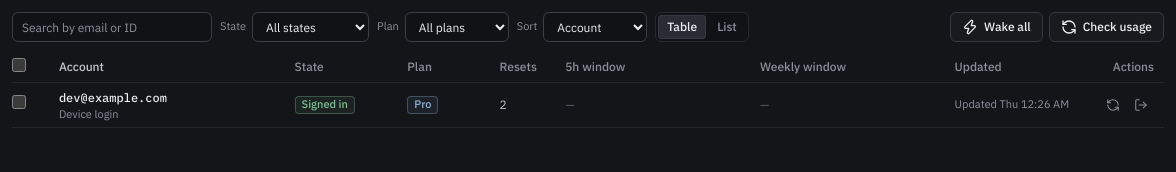
Test case: CodexAccountsPane › says no windows were reported when the probe answered without them
Check: the text "—" is shown 2 times, box [555, 82, 750, 128]; [750, 82, 945, 128]
Click the button "List": (727, 27) [708, 15, 746, 39]
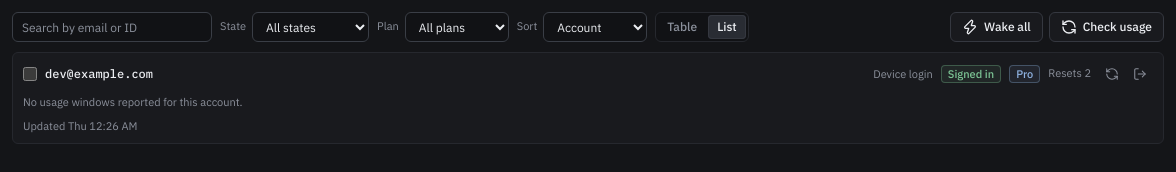
Check: the text "No usage windows reported for this account." is shown, box [23, 95, 243, 109]
